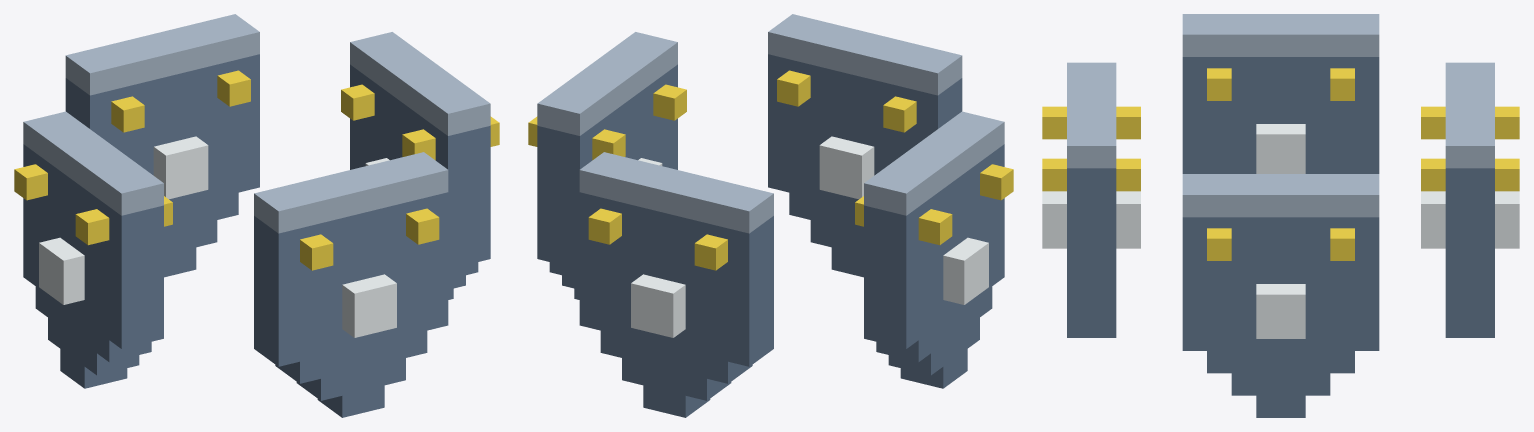
The model's file is fx_ironskin.glb.
The picture shows the model from 3 angles, left to right: view 1: azimuth 30°, elevation 25°; view 2: azimuth 150°, elevation 25°; view 3: azimuth 270°, elevation 25°; orthographic projection.
Parts seen in each view (by area): view 1: iron_skin_plate_front, iron_skin_plate_left, iron_skin_plate_back, iron_skin_plate_right; view 2: iron_skin_plate_back, iron_skin_plate_left, iron_skin_plate_front, iron_skin_plate_right; view 3: iron_skin_plate_right, iron_skin_plate_left, iron_skin_plate_front, iron_skin_plate_back.
Boxes of the visible parts, box(x1,y1,x2,y2) form: iron_skin_plate_front: box(254, 152, 448, 417); iron_skin_plate_left: box(14, 111, 172, 388); iron_skin_plate_back: box(65, 14, 259, 277); iron_skin_plate_right: box(341, 32, 499, 299); iron_skin_plate_back: box(579, 152, 773, 417); iron_skin_plate_left: box(855, 111, 1013, 388); iron_skin_plate_front: box(768, 14, 962, 277); iron_skin_plate_right: box(528, 32, 686, 299); iron_skin_plate_right: box(1182, 174, 1379, 417); iron_skin_plate_left: box(1182, 14, 1379, 173); iron_skin_plate_front: box(1042, 62, 1140, 337); iron_skin_plate_back: box(1421, 62, 1519, 337).
Size of the model in its own units: 1.26 by 0.65 by 1.26.
